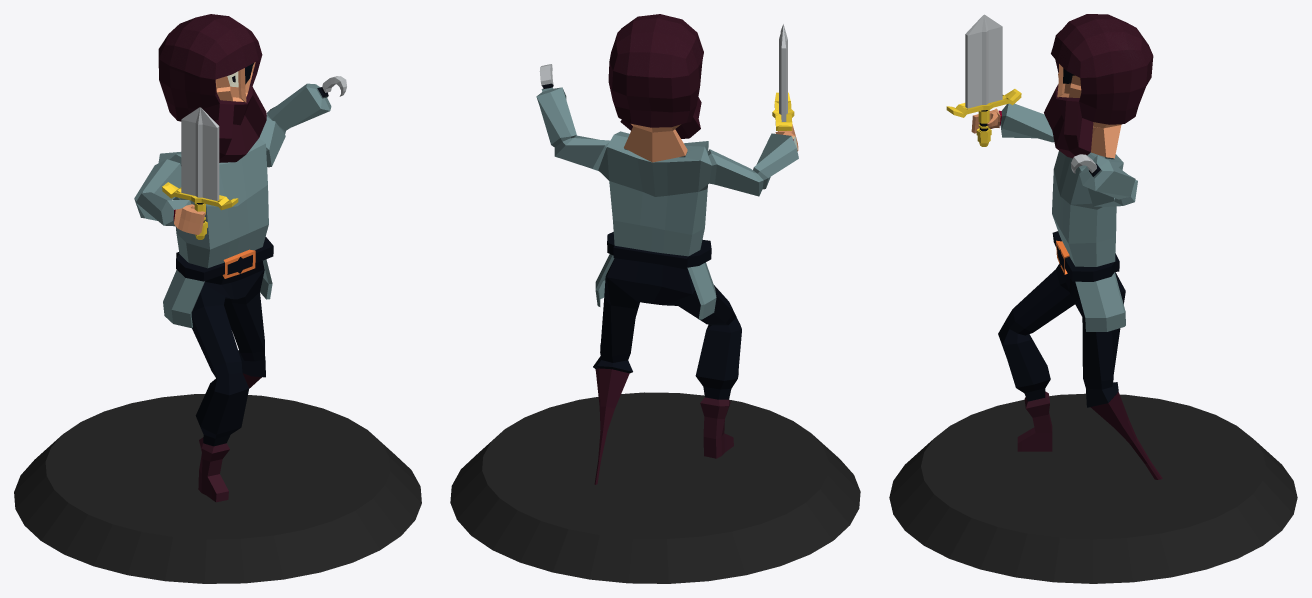
File: Pirate fight.fbx
3 views of the same model, side by side, from view 1: azimuth 30°, elevation 25°; view 2: azimuth 150°, elevation 25°; view 3: azimuth 270°, elevation 25° (orthographic).
Parts seen in each view (by area): view 1: Cilindro, Cubo.001, Cilindro.001; view 2: Cilindro, Cubo.001, Cilindro.001; view 3: Cilindro, Cubo.001, Cilindro.001.
Boxes of the visible parts, x1,y1,x2,y2 form: Cilindro: [14, 394, 421, 583]; Cubo.001: [134, 14, 346, 502]; Cilindro.001: [162, 107, 238, 239]; Cilindro: [450, 392, 860, 583]; Cubo.001: [536, 14, 798, 484]; Cilindro.001: [772, 24, 794, 131]; Cilindro: [889, 393, 1297, 583]; Cubo.001: [971, 14, 1162, 479]; Cilindro.001: [946, 14, 1021, 146].
Bounding box in the file's own units: 154 × 198 × 154.
